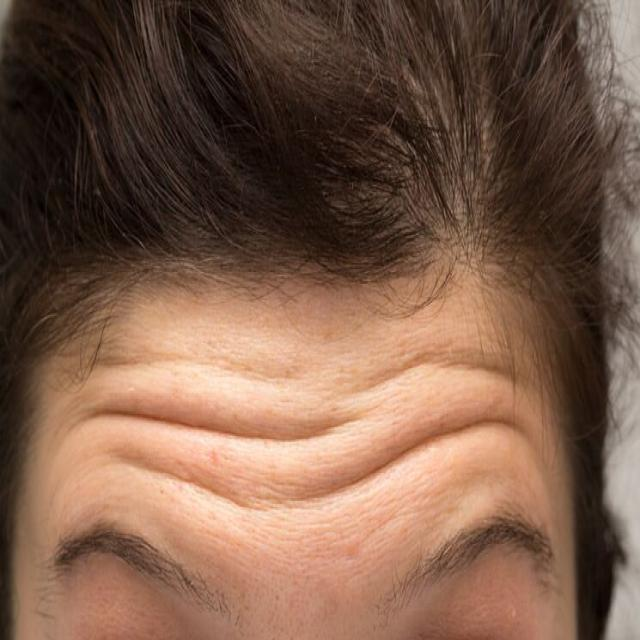Wrinkles: (106, 409, 540, 520), (56, 394, 354, 449), (350, 328, 525, 396), (99, 350, 299, 382)
